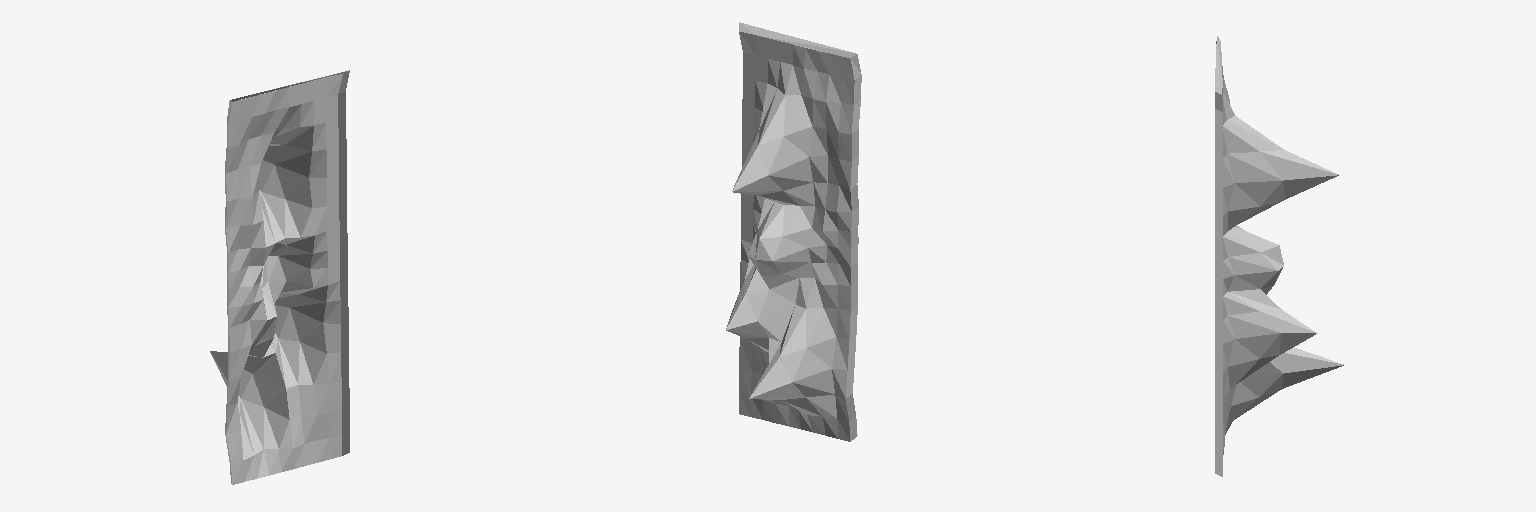
The model's file is mountainTest2.obj.
The picture shows the model from 3 angles: view 1: azimuth 30°, elevation 25°; view 2: azimuth 150°, elevation 25°; view 3: azimuth 270°, elevation 25°; orthographic projection.
Visible parts, largest first — view 1: Sahne_Plane.001; view 2: Sahne_Plane.001; view 3: Sahne_Plane.001.
Boxes of the visible parts, x1=… form: Sahne_Plane.001: x1=210, y1=70, x2=349, y2=484; Sahne_Plane.001: x1=726, y1=22, x2=861, y2=441; Sahne_Plane.001: x1=1215, y1=36, x2=1343, y2=476.
Size of the model in its own units: 3.34 by 10.11 by 3.08.